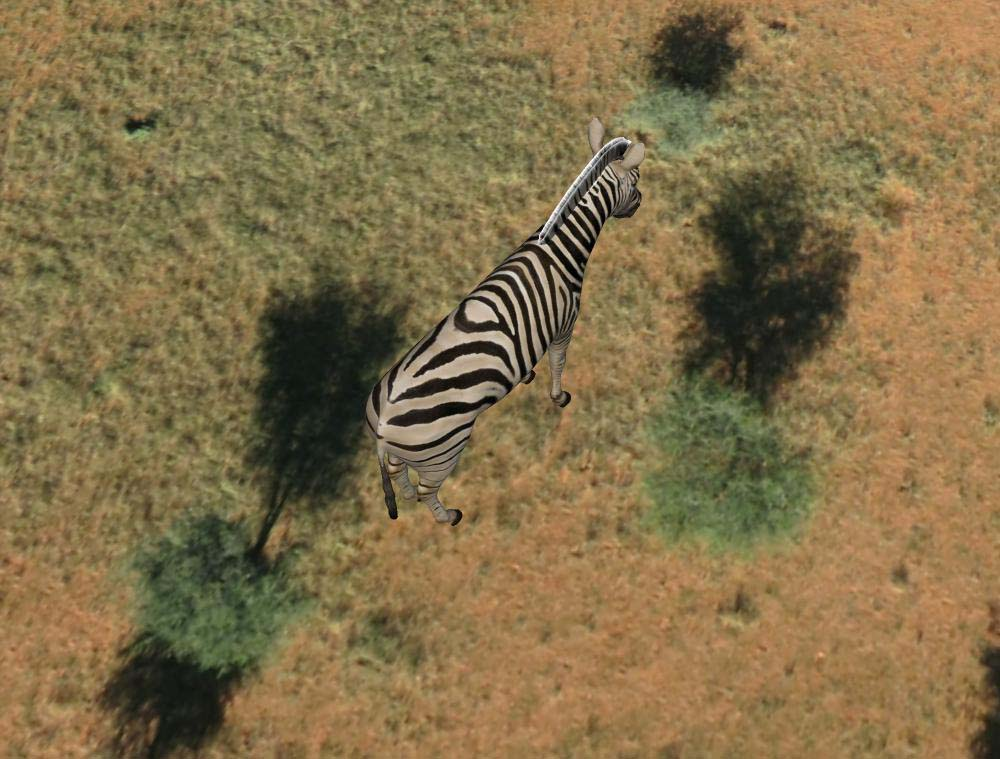zebra: (363, 110, 647, 532)
